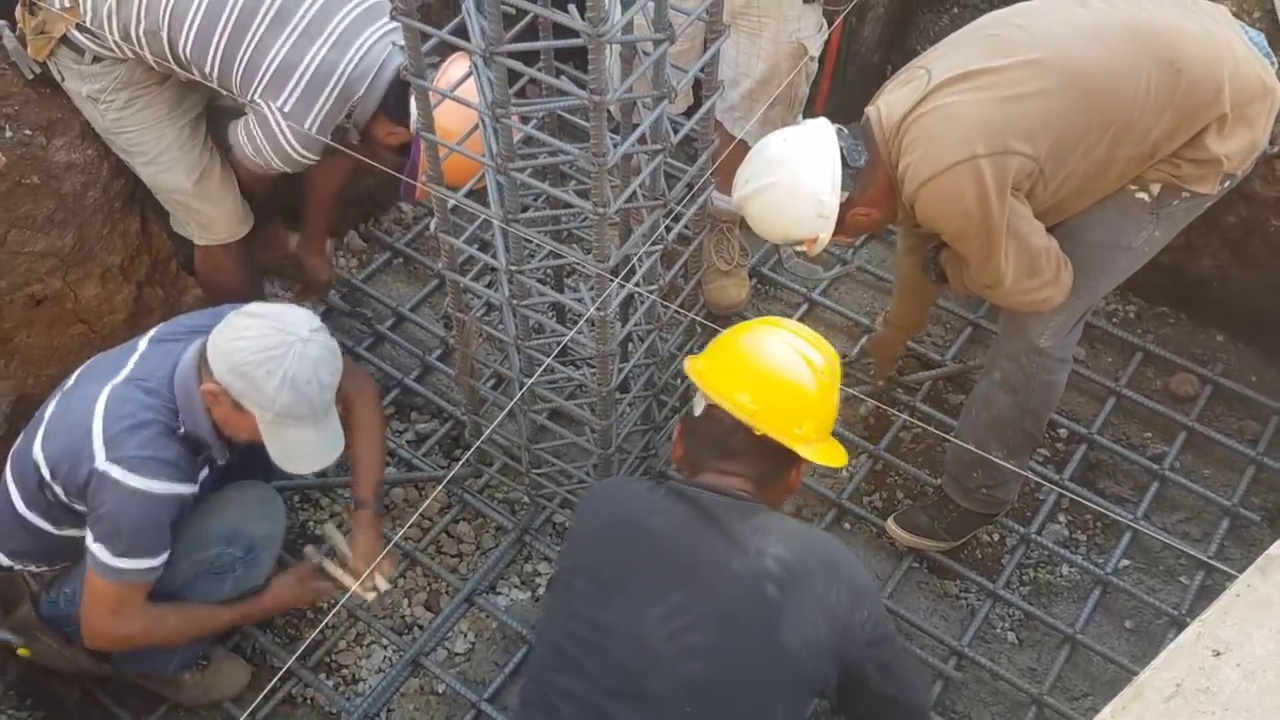helmet: (685, 310, 851, 470), (398, 56, 522, 194), (733, 111, 854, 252)
helmet-off: (181, 303, 373, 472)
helmet-on: (670, 312, 844, 514), (735, 99, 920, 254), (367, 52, 525, 208)
person: (721, 2, 1280, 545), (506, 314, 927, 719), (10, 0, 536, 297), (0, 298, 374, 692)
